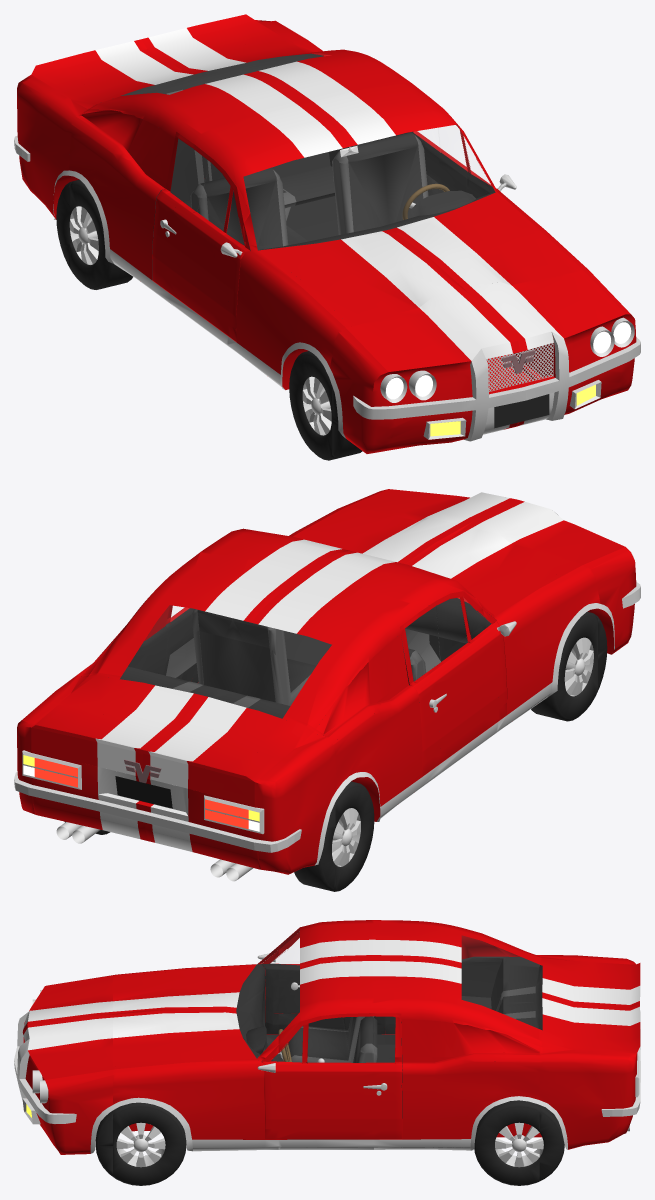
File: vanguard.glb
3 renders of one model, top to bottom at view 1: azimuth 30°, elevation 25°; view 2: azimuth 150°, elevation 25°; view 3: azimuth 270°, elevation 25°, orthographic. The views are drawn at different scales.
Parts seen in each view (by area): view 1: roof, cockpit, nose.R, bonnet, nose.L, fender.R, quarter.R, door.R, tail.R, wheel.rear.L, fender.L, wheel.rear.R; view 2: roof, cockpit, tail.R, bonnet, fender.R, quarter.R, door.R, tail.L, nose.R, nose.L; view 3: roof, cockpit, quarter.L, door.L, fender.L, bonnet, nose.L, tail.L, nose.R, door.R, fender.R, wheel.rear.R.
Part boxes in pixels (<box>): roof: <box>22,14,474,212</box>; cockpit: <box>56,53,549,460</box>; nose.R: <box>327,290,525,453</box>; bonnet: <box>265,194,577,326</box>; nose.L: <box>465,271,640,427</box>; fender.R: <box>220,241,351,435</box>; quarter.R: <box>66,123,182,305</box>; door.R: <box>81,109,250,348</box>; tail.R: <box>14,75,92,241</box>; wheel.rear.L: <box>271,147,348,230</box>; fender.L: <box>486,174,590,389</box>; wheel.rear.R: <box>152,138,198,264</box>; roof: <box>22,528,475,805</box>; cockpit: <box>64,598,607,891</box>; tail.R: <box>141,743,339,881</box>; bonnet: <box>298,508,577,612</box>; fender.R: <box>486,563,602,733</box>; quarter.R: <box>332,672,440,866</box>; door.R: <box>314,590,498,776</box>; tail.L: <box>14,720,147,843</box>; nose.R: <box>465,500,640,654</box>; nose.L: <box>340,489,517,525</box>; roof: <box>279,920,640,1061</box>; cockpit: <box>95,956,564,1185</box>; quarter.L: <box>374,1057,539,1167</box>; door.L: <box>266,1013,542,1149</box>; fender.L: <box>113,1056,278,1167</box>; bonnet: <box>113,966,283,1066</box>; nose.L: <box>14,1014,112,1154</box>; tail.L: <box>539,1054,640,1156</box>; nose.R: <box>14,975,112,1059</box>; door.R: <box>266,931,542,1058</box>; fender.R: <box>113,953,278,1034</box>; wheel.rear.R: <box>490,958,503,1010</box>.
Bounding box in the file's own units: 2.08 × 1.49 × 4.8.
